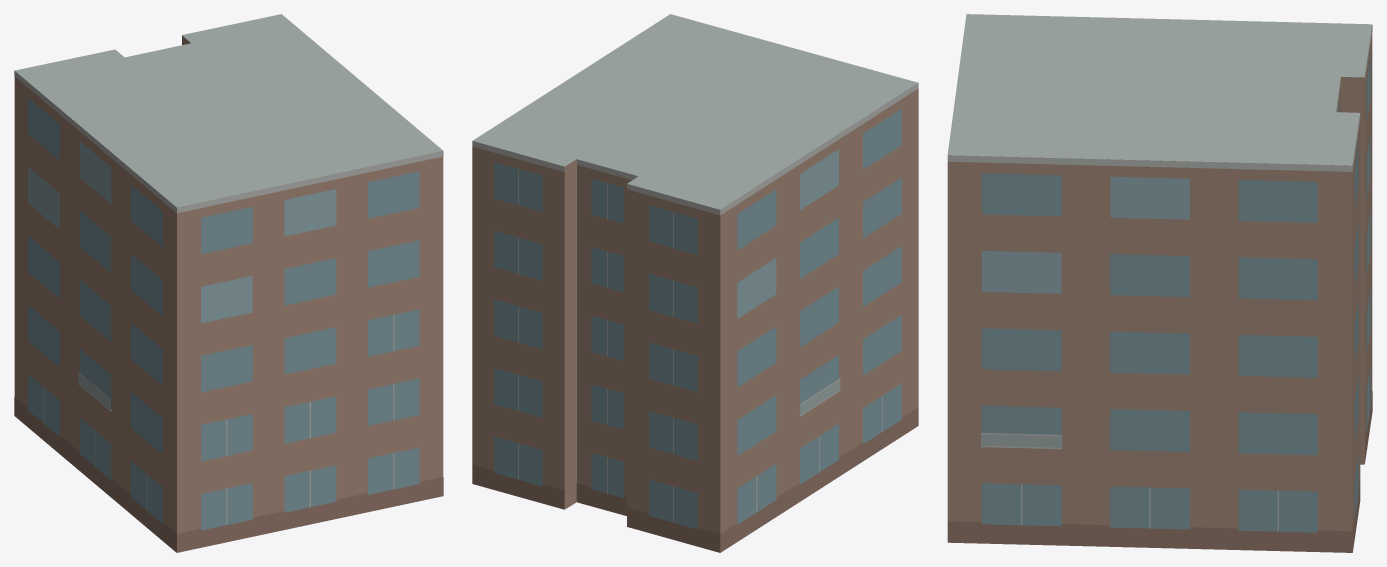
File: survey-upis-32881885.glb
The picture shows the model from 3 angles, left to right: view 1: azimuth 30°, elevation 25°; view 2: azimuth 150°, elevation 25°; view 3: azimuth 270°, elevation 25°; orthographic projection. The views are drawn at different scales.
Parts seen in each view (by area): view 1: survey-upis-32881885.tmp; view 2: survey-upis-32881885.tmp; view 3: survey-upis-32881885.tmp.
Boxes of the visible parts, box(x1,y1,x2,y2) form: survey-upis-32881885.tmp: box(14, 14, 443, 552); survey-upis-32881885.tmp: box(472, 14, 918, 552); survey-upis-32881885.tmp: box(947, 14, 1372, 552).
Size of the model in its own units: 12.43 by 14.8 by 14.73.
